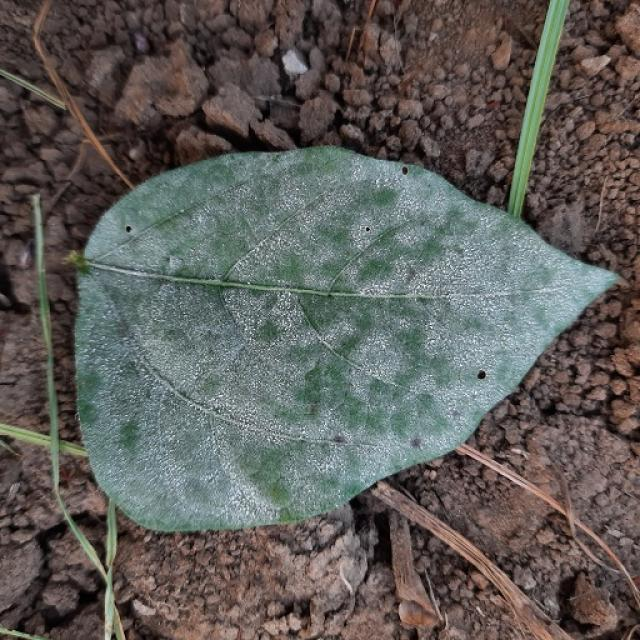Blackgram: (76, 148, 618, 531)
Powdery_Mildew: (133, 213, 441, 444), (88, 404, 339, 535), (93, 153, 344, 281), (231, 173, 424, 298), (385, 260, 556, 393), (131, 268, 273, 396), (388, 213, 553, 297), (325, 294, 445, 392), (75, 281, 151, 430), (221, 306, 332, 404), (135, 356, 260, 431), (326, 217, 418, 295), (317, 367, 414, 435), (418, 234, 500, 298), (72, 254, 120, 363), (373, 232, 457, 289), (291, 352, 352, 420), (241, 446, 310, 501), (238, 450, 269, 478), (334, 333, 364, 360), (116, 417, 142, 447), (266, 479, 290, 506), (369, 187, 398, 208), (255, 320, 281, 343), (459, 316, 486, 337), (163, 254, 183, 273), (247, 281, 252, 286), (180, 209, 185, 214)
